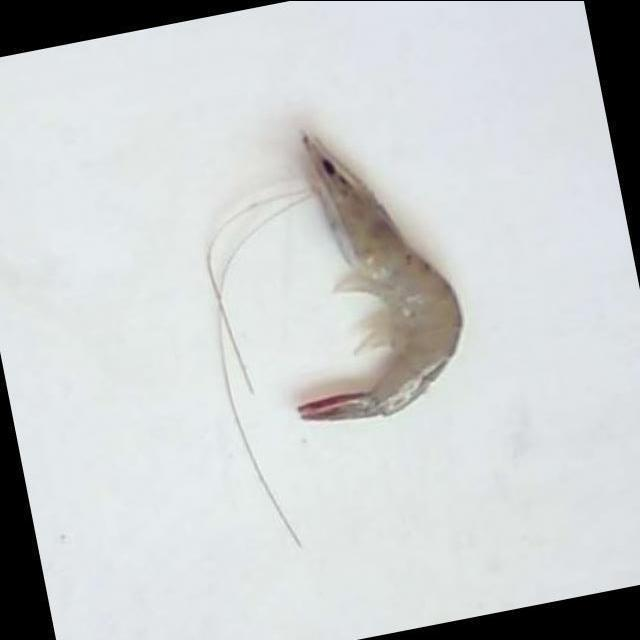shrimp: (298, 133, 463, 420)
